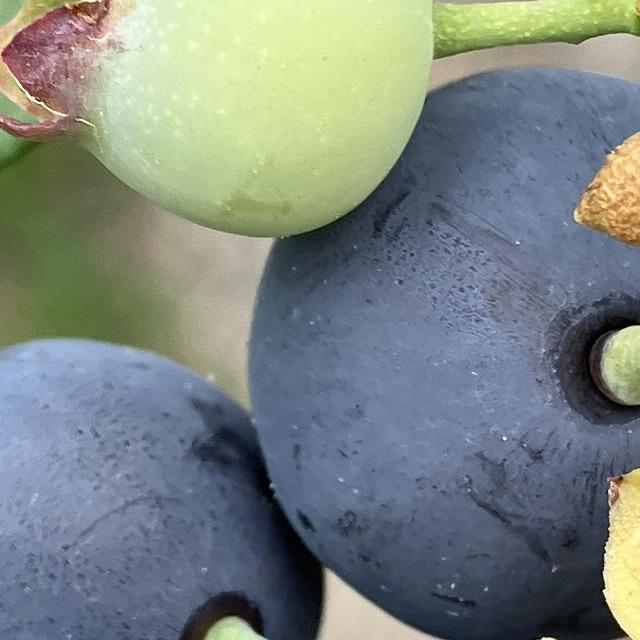Blueberries: (243, 59, 640, 640)
